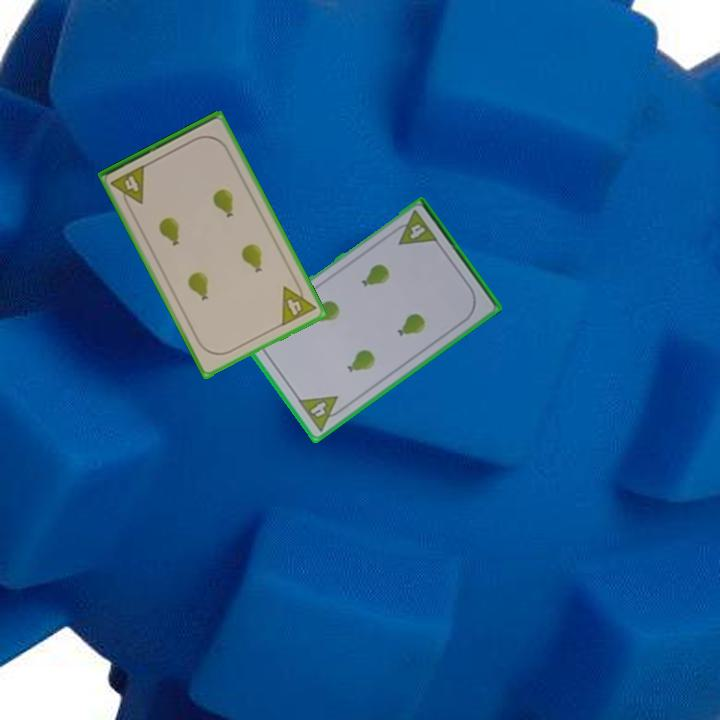4p: (294, 392, 348, 434), (388, 207, 441, 248), (278, 277, 319, 329), (107, 161, 148, 212)
